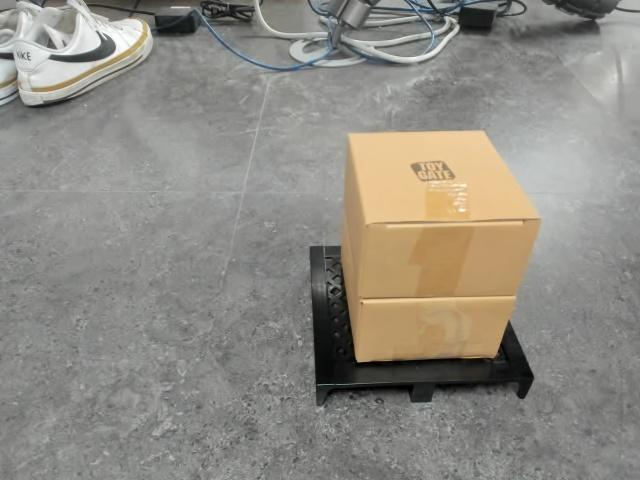box: (309, 129, 543, 407)
